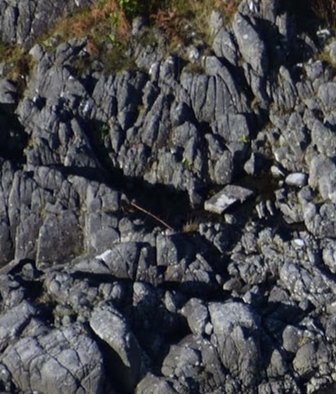tube: (130, 198, 176, 233)
